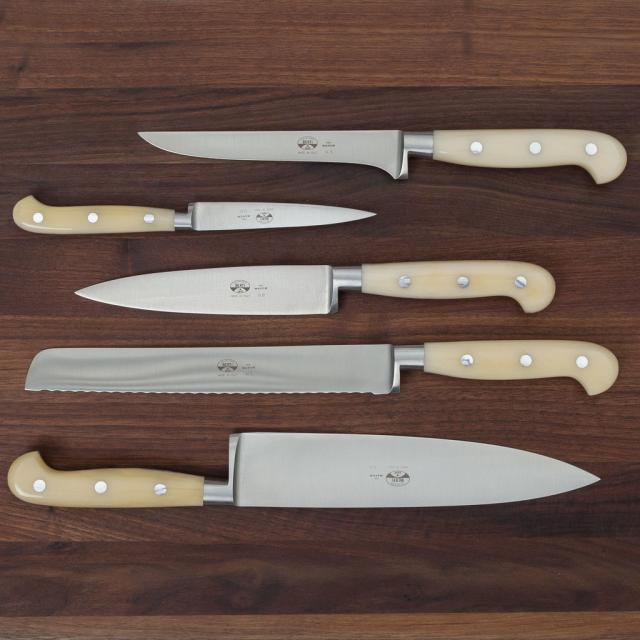Knife: (8, 432, 599, 507), (25, 340, 619, 395), (76, 260, 555, 314), (139, 130, 626, 183), (12, 195, 374, 233)
